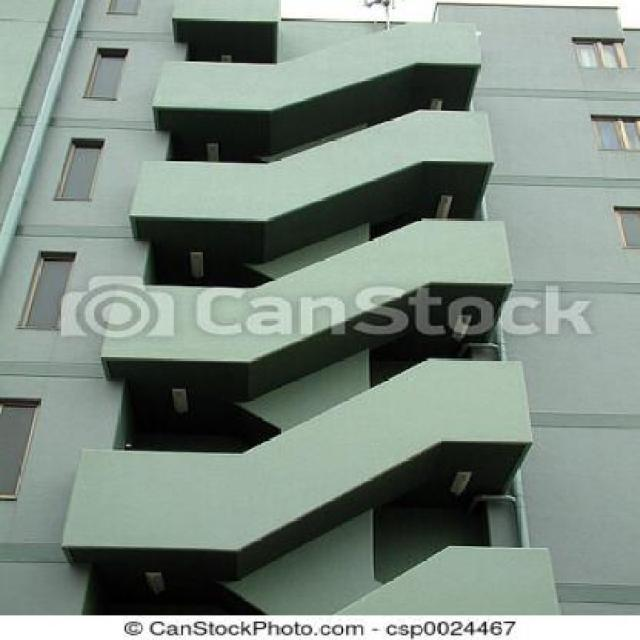stair: (142, 51, 527, 524)
